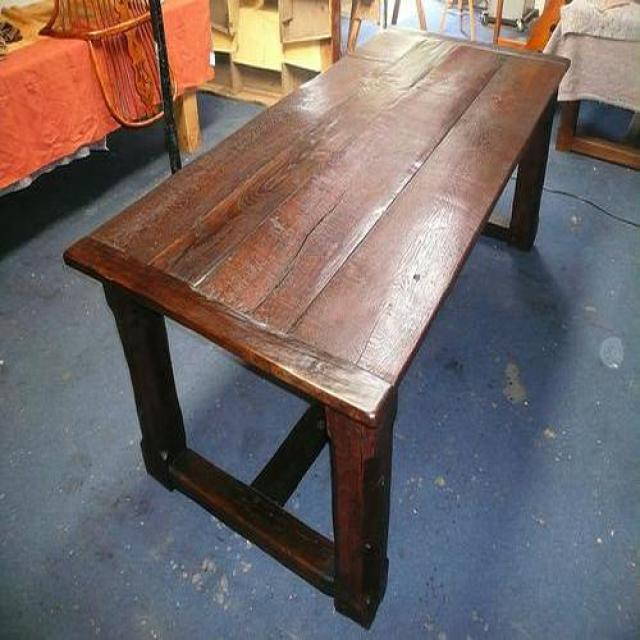table: (61, 28, 570, 630)
